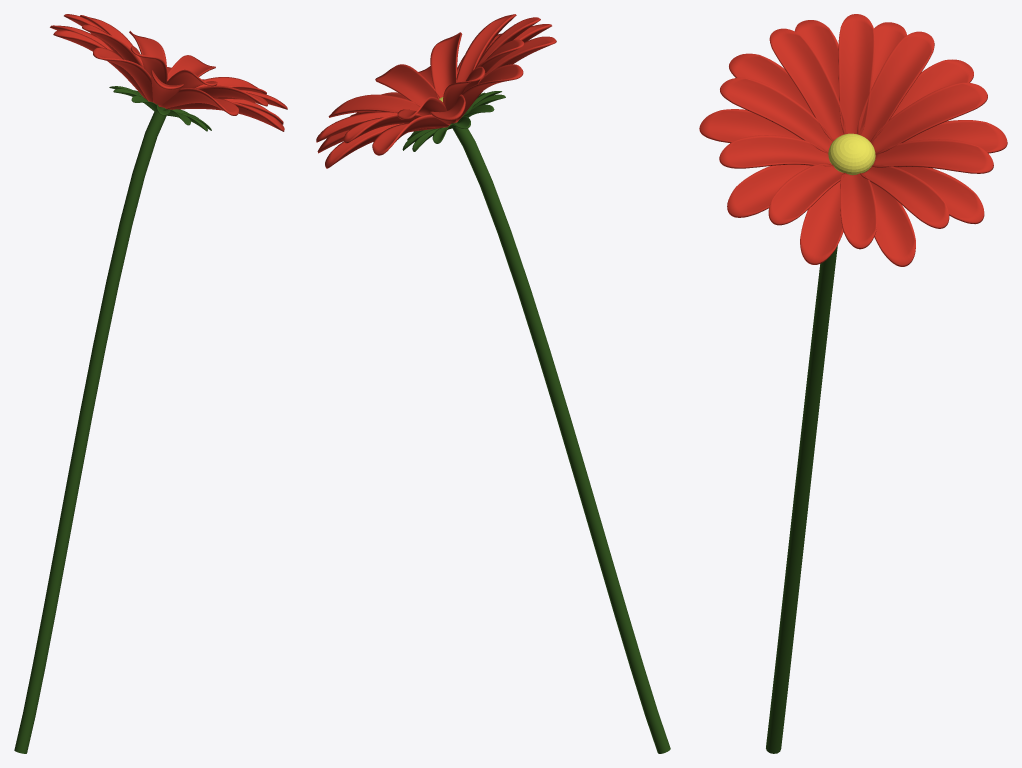
File: Red.glb
3 renders of one model, left to right at view 1: azimuth 30°, elevation 25°; view 2: azimuth 150°, elevation 25°; view 3: azimuth 270°, elevation 25°, orthographic. The views are drawn at different scales.
Parts seen in each view (by area): view 1: BézierCurve.002; view 2: BézierCurve.002; view 3: BézierCurve.002.
Boxes of the visible parts, x1,y1,x2,y2 form: BézierCurve.002: [14, 14, 287, 753]; BézierCurve.002: [316, 14, 670, 753]; BézierCurve.002: [699, 14, 1007, 753].
Bounding box in the file's own units: 0.0703 × 0.1587 × 0.0558.
